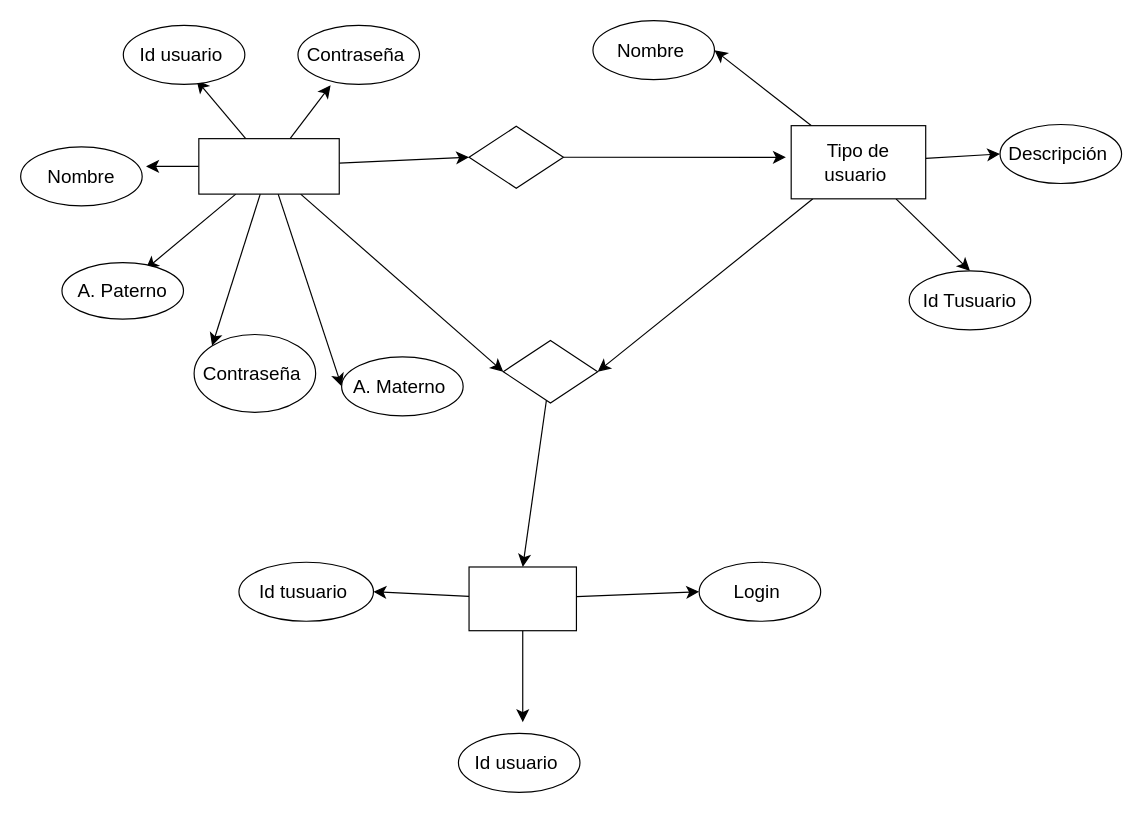
The diagram is 1142 pixels wide and 813 high, and some of its shapes have lost their labels. Each missing label, with the centre of its shape:
"contApp" belongs at pixel 522 598.
"Ocupan" belongs at pixel 550 371.
"Tiene" belongs at pixel 515 156.
"Usuario" belongs at pixel 268 165.
